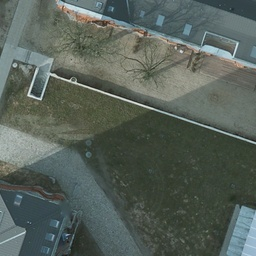car: (0, 0, 8, 6)
